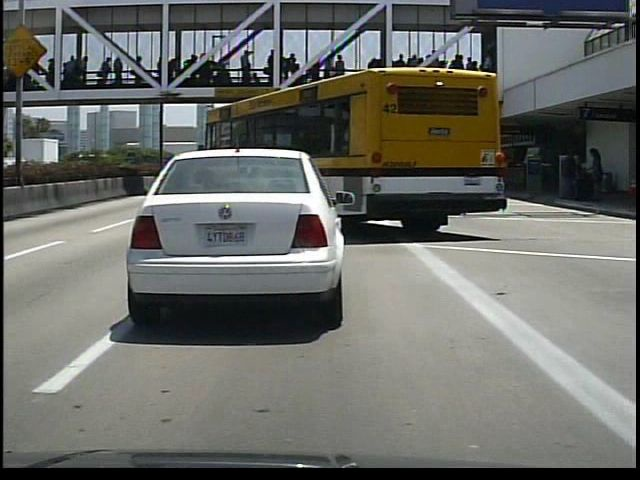person: (584, 145, 613, 208), (559, 144, 586, 205)
